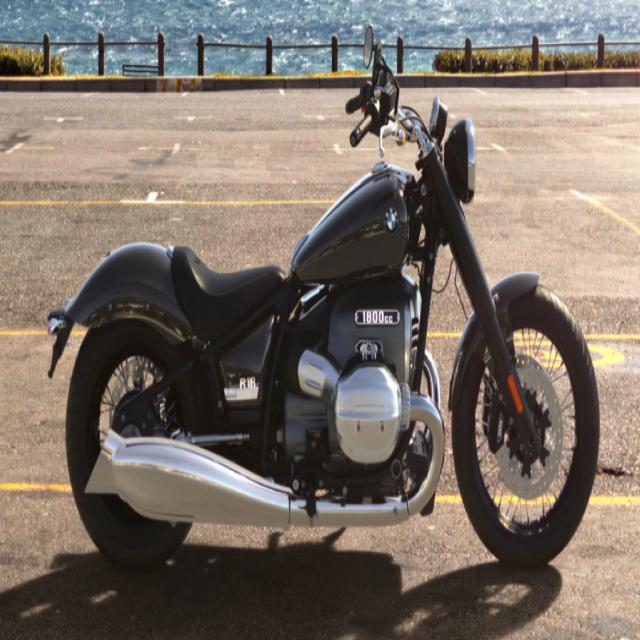MOTORCYCLE: (55, 114, 602, 600)
